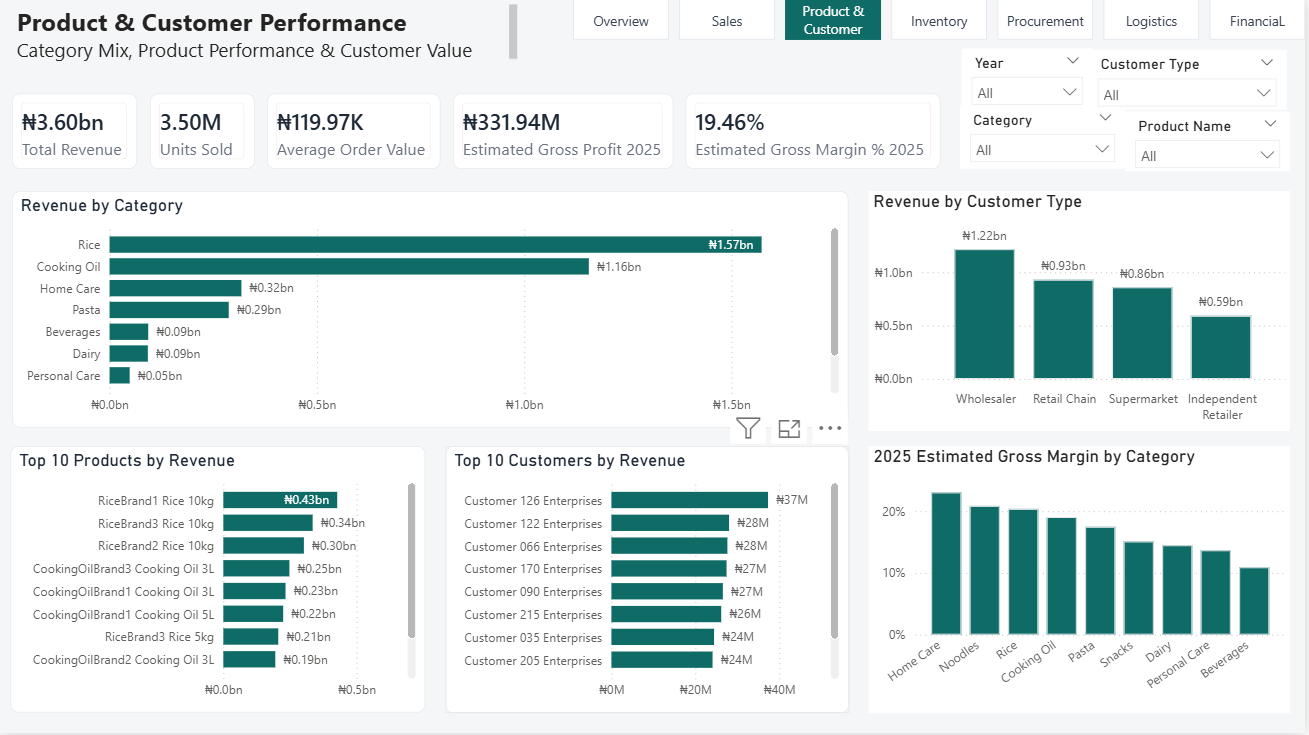

The dashboard page shown, as its layout file describes it:
{"tool":"powerbi","page":{"name":"Product & Customer ","canvas":[1280,720],"ordinal":2},"visuals":[{"type":"textbox","box":[11.7,0,500,65],"z":0},{"type":"slicer","fields":{"Values":["Date.Year"]},"box":[943.3,48.3,128.3,58.3],"z":1000},{"type":"slicer","fields":{"Values":["categories.CategoryName"]},"box":[941.7,105,161.7,61.7],"z":2000},{"type":"slicer","fields":{"Values":["products.ProductName"]},"box":[1103.3,110,161.7,58.3],"z":3000},{"type":"cardVisual","fields":{"Data":["Measures_Table.Total Revenue"]},"box":[11.4,92.9,122.9,74.3],"z":4000},{"type":"cardVisual","fields":{"Data":["Measures_Table.Units Sold"]},"box":[146.4,92.9,102.9,74.3],"z":5000},{"type":"cardVisual","fields":{"Data":["Measures_Table.Average Order Value"]},"box":[261.4,92.9,170,74.3],"z":6000},{"type":"cardVisual","fields":{"Data":["Measures_Table.Estimated Gross Margin % 2025"]},"box":[671.4,92.9,250,74.3],"z":7000},{"type":"cardVisual","fields":{"Data":["Measures_Table.Estimated Gross Profit 2025"]},"box":[443.6,92.9,215.7,74.3],"z":8000},{"type":"clusteredBarChart","title":"Revenue by Category","fields":{"Y":["Measures_Table.Total Revenue"],"Category":["categories.CategoryName"]},"box":[11.7,188.3,820,231.7],"z":9000},{"type":"clusteredBarChart","title":"Top 10 Products by Revenue","fields":{"Category":["products.ProductName"],"Y":["Measures_Table.Total Revenue"]},"box":[10.9,438,406.7,261.2],"z":10000},{"type":"clusteredColumnChart","title":"Revenue by Customer Type","fields":{"Y":["Measures_Table.Total Revenue"],"Category":["customers.CustomerType"]},"box":[851.7,188.3,413.3,235],"z":11000},{"type":"clusteredBarChart","title":"Top 10 Customers by Revenue","fields":{"Category":["customers.CustomerName"],"Y":["Measures_Table.Total Revenue"]},"box":[436.7,438.3,395,261.7],"z":12000},{"type":"clusteredColumnChart","title":"2025 Estimated Gross Margin  by Category","fields":{"Category":["categories.CategoryName"],"Y":["Measures_Table.Estimated Gross Margin % 2025"]},"box":[851.7,438.3,413.3,261.7],"z":13000},{"type":"slicer","fields":{"Values":["customers.CustomerType"]},"box":[1066.7,50,195,58.3],"z":14000},{"type":"pageNavigator","box":[561.7,0,718.3,40],"z":15000}]}

Visuals, with their boxes in screenshot pixels (x1, y1, x2, y2), scaled from the page's 1280x720 canvas onto the 1309x735 screenshot:
textbox: (12, 0, 523, 66)
slicer - Date.Year: (965, 49, 1096, 109)
slicer - categories.CategoryName: (963, 107, 1128, 170)
slicer - products.ProductName: (1128, 112, 1294, 172)
cardVisual - Measures_Table.Total Revenue: (12, 95, 137, 171)
cardVisual - Measures_Table.Units Sold: (150, 95, 255, 171)
cardVisual - Measures_Table.Average Order Value: (267, 95, 441, 171)
cardVisual - Measures_Table.Estimated Gross Margin % 2025: (687, 95, 942, 171)
cardVisual - Measures_Table.Estimated Gross Profit 2025: (454, 95, 674, 171)
"Revenue by Category" clusteredBarChart: (12, 192, 851, 429)
"Top 10 Products by Revenue" clusteredBarChart: (11, 447, 427, 714)
"Revenue by Customer Type" clusteredColumnChart: (871, 192, 1294, 432)
"Top 10 Customers by Revenue" clusteredBarChart: (447, 447, 851, 715)
"2025 Estimated Gross Margin  by Category" clusteredColumnChart: (871, 447, 1294, 715)
slicer - customers.CustomerType: (1091, 51, 1290, 111)
pageNavigator: (574, 0, 1308, 41)
